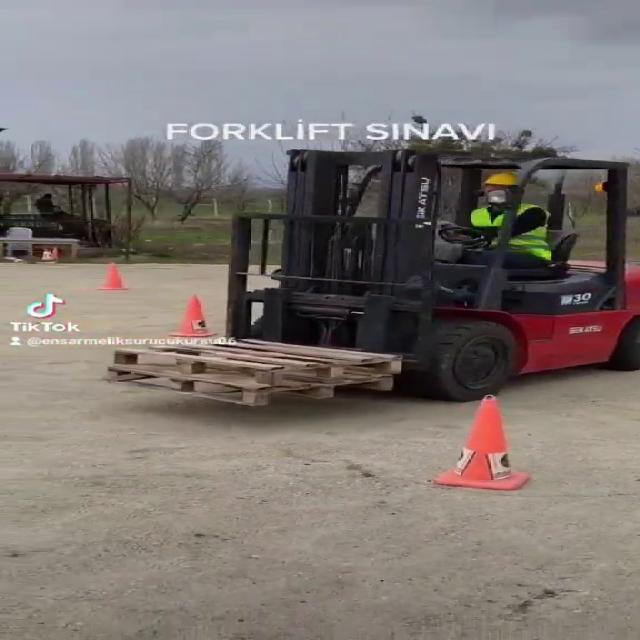forklift: (198, 148, 640, 396)
pallets: (101, 325, 414, 412)
person: (425, 164, 577, 283)
